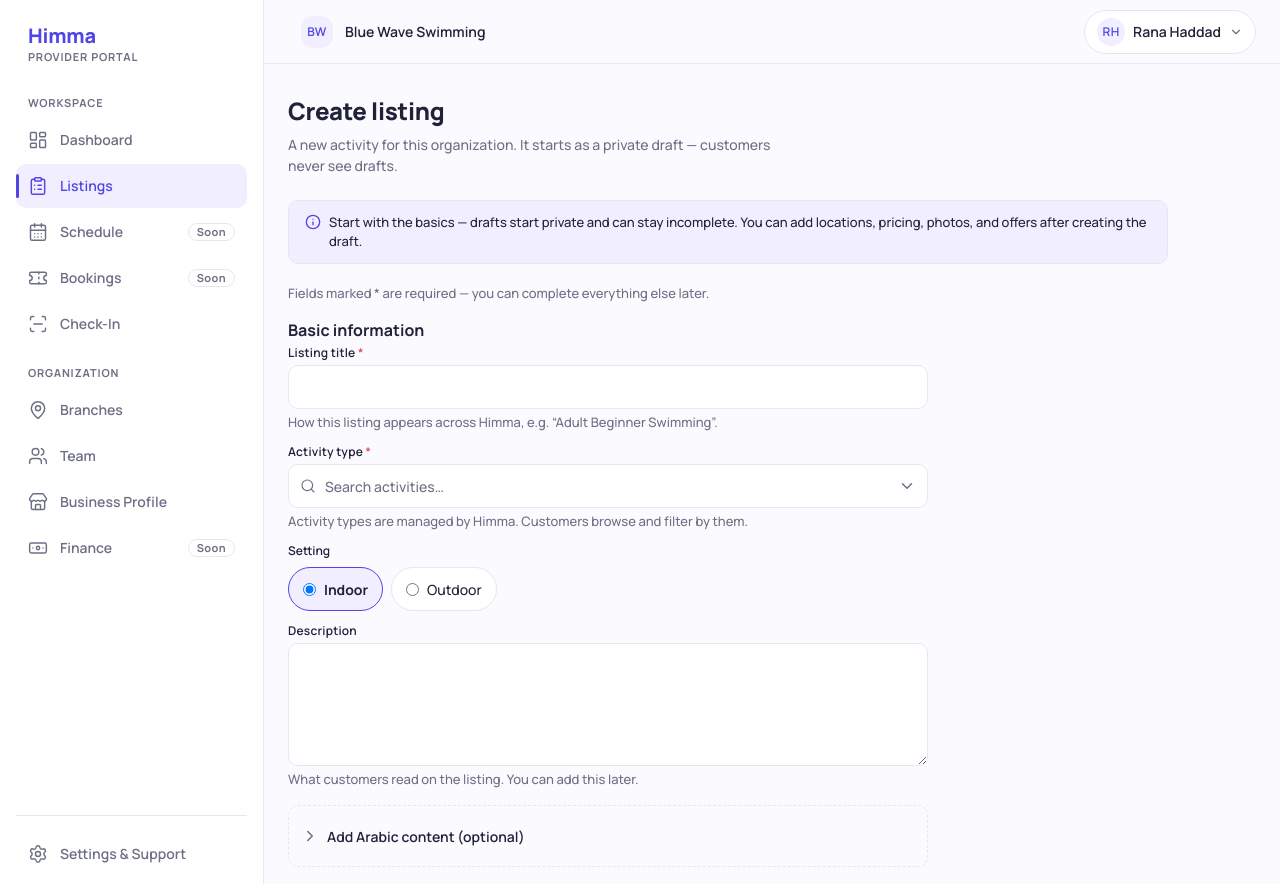
it: listing creation (W2-8 + interaction-model correction) › the deactivated taxonomy row cannot be reached through search either — it resolves to the help state
The width and height of the screenshot is (1280, 884).
Type "Synchronized" into the dropdown labelled "Activity type *" at (608, 486), box left=288, top=464, right=928, bottom=508
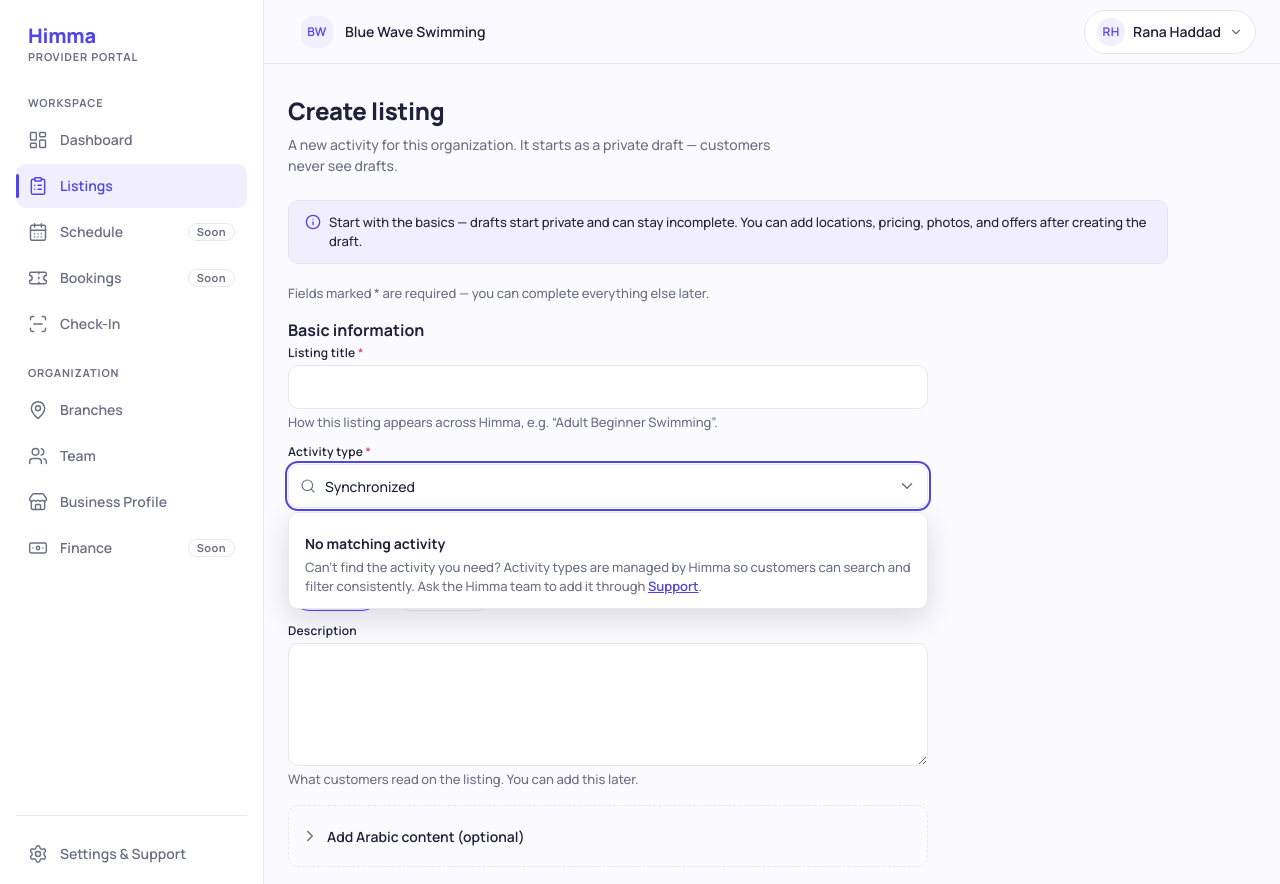
Check: the text "No matching activity" is shown, box left=305, top=534, right=445, bottom=553
